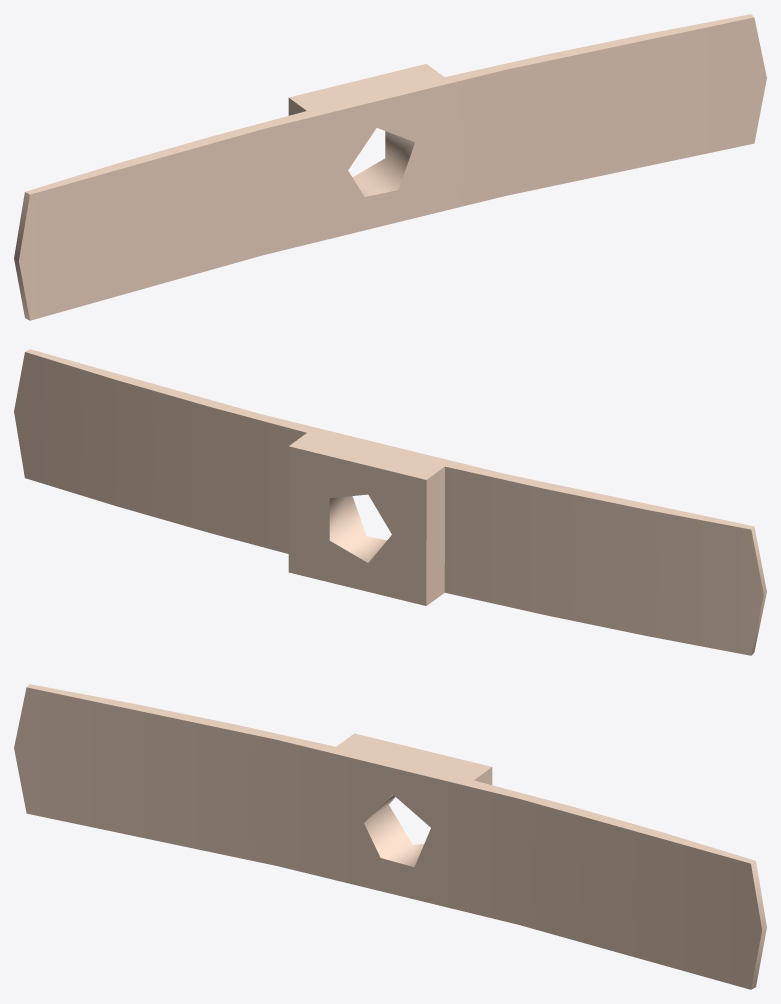
Rendered from Ressort Roue lien limacons.obj.
3 renders of one model, top to bottom at view 1: azimuth 30°, elevation 25°; view 2: azimuth 150°, elevation 25°; view 3: azimuth 330°, elevation 25°, orthographic.
Parts seen in each view (by area): view 1: Face_8, Face_3, Face_11, Face_9; view 2: Face_7, Face_6, Face_5, Face_3, Face_2, Face_11; view 3: Face_8, Face_3, Face_11, Face_10.
Boxes of the visible parts, x1=… form: Face_8: x1=19, y1=17, x2=766, y2=320; Face_3: x1=25, y1=14, x2=753, y2=194; Face_11: x1=352, y1=131, x2=414, y2=196; Face_9: x1=14, y1=192, x2=29, y2=320; Face_7: x1=444, y1=466, x2=763, y2=655; Face_6: x1=14, y1=352, x2=306, y2=553; Face_5: x1=288, y1=446, x2=426, y2=605; Face_3: x1=25, y1=349, x2=753, y2=529; Face_2: x1=426, y1=467, x2=444, y2=605; Face_11: x1=329, y1=496, x2=386, y2=562; Face_8: x1=14, y1=687, x2=761, y2=989; Face_3: x1=27, y1=684, x2=755, y2=863; Face_11: x1=364, y1=795, x2=423, y2=867; Face_10: x1=751, y1=861, x2=766, y2=989.
Size of the model in its own units: 0.0435 by 0.00703 by 0.00355.
